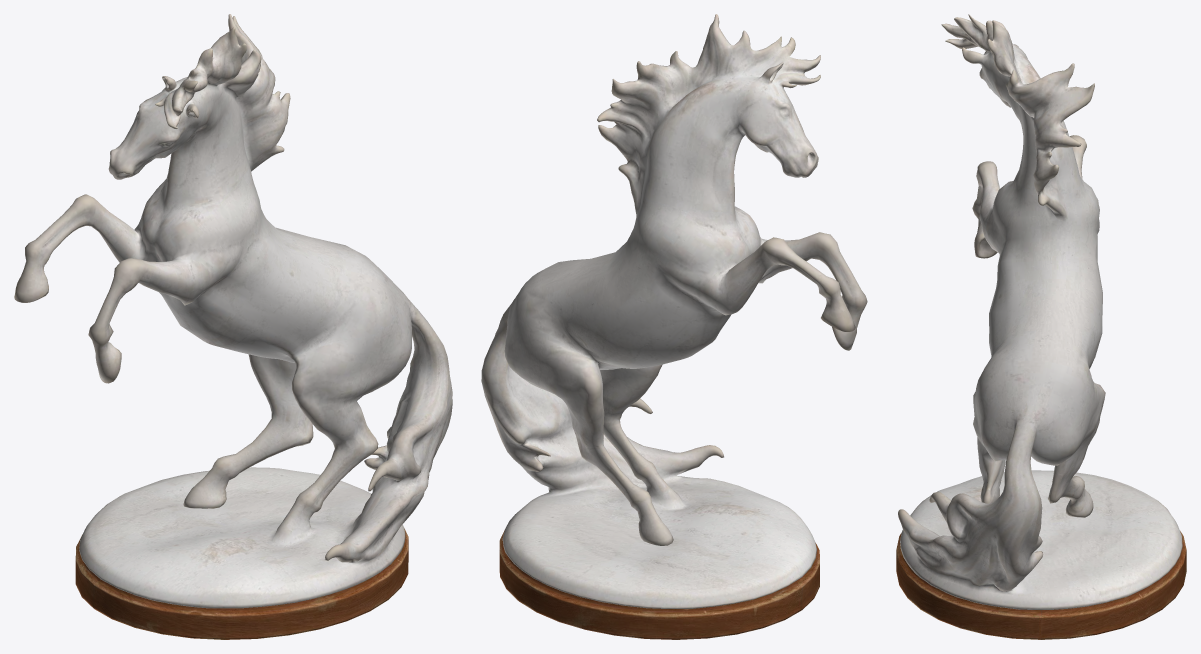
Rendered from horse_statue_01.glb.
The picture shows the model from 3 angles, left to right: view 1: azimuth 30°, elevation 25°; view 2: azimuth 150°, elevation 25°; view 3: azimuth 270°, elevation 25°; orthographic projection. The views are drawn at different scales.
Parts seen in each view (by area): view 1: horse_statue_01; view 2: horse_statue_01; view 3: horse_statue_01.
Part boxes in pixels (<box>): horse_statue_01: <box>14,14,452,639</box>; horse_statue_01: <box>481,14,867,639</box>; horse_statue_01: <box>896,14,1186,639</box>.
Bounding box in the file's own units: 0.1638 × 0.22 × 0.1078.
Materials: 1 (1 with a texture image).
